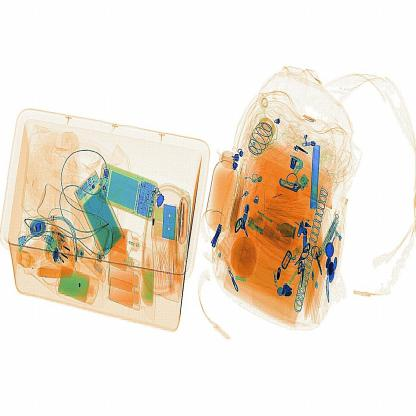pliers: (307, 141, 322, 213)
